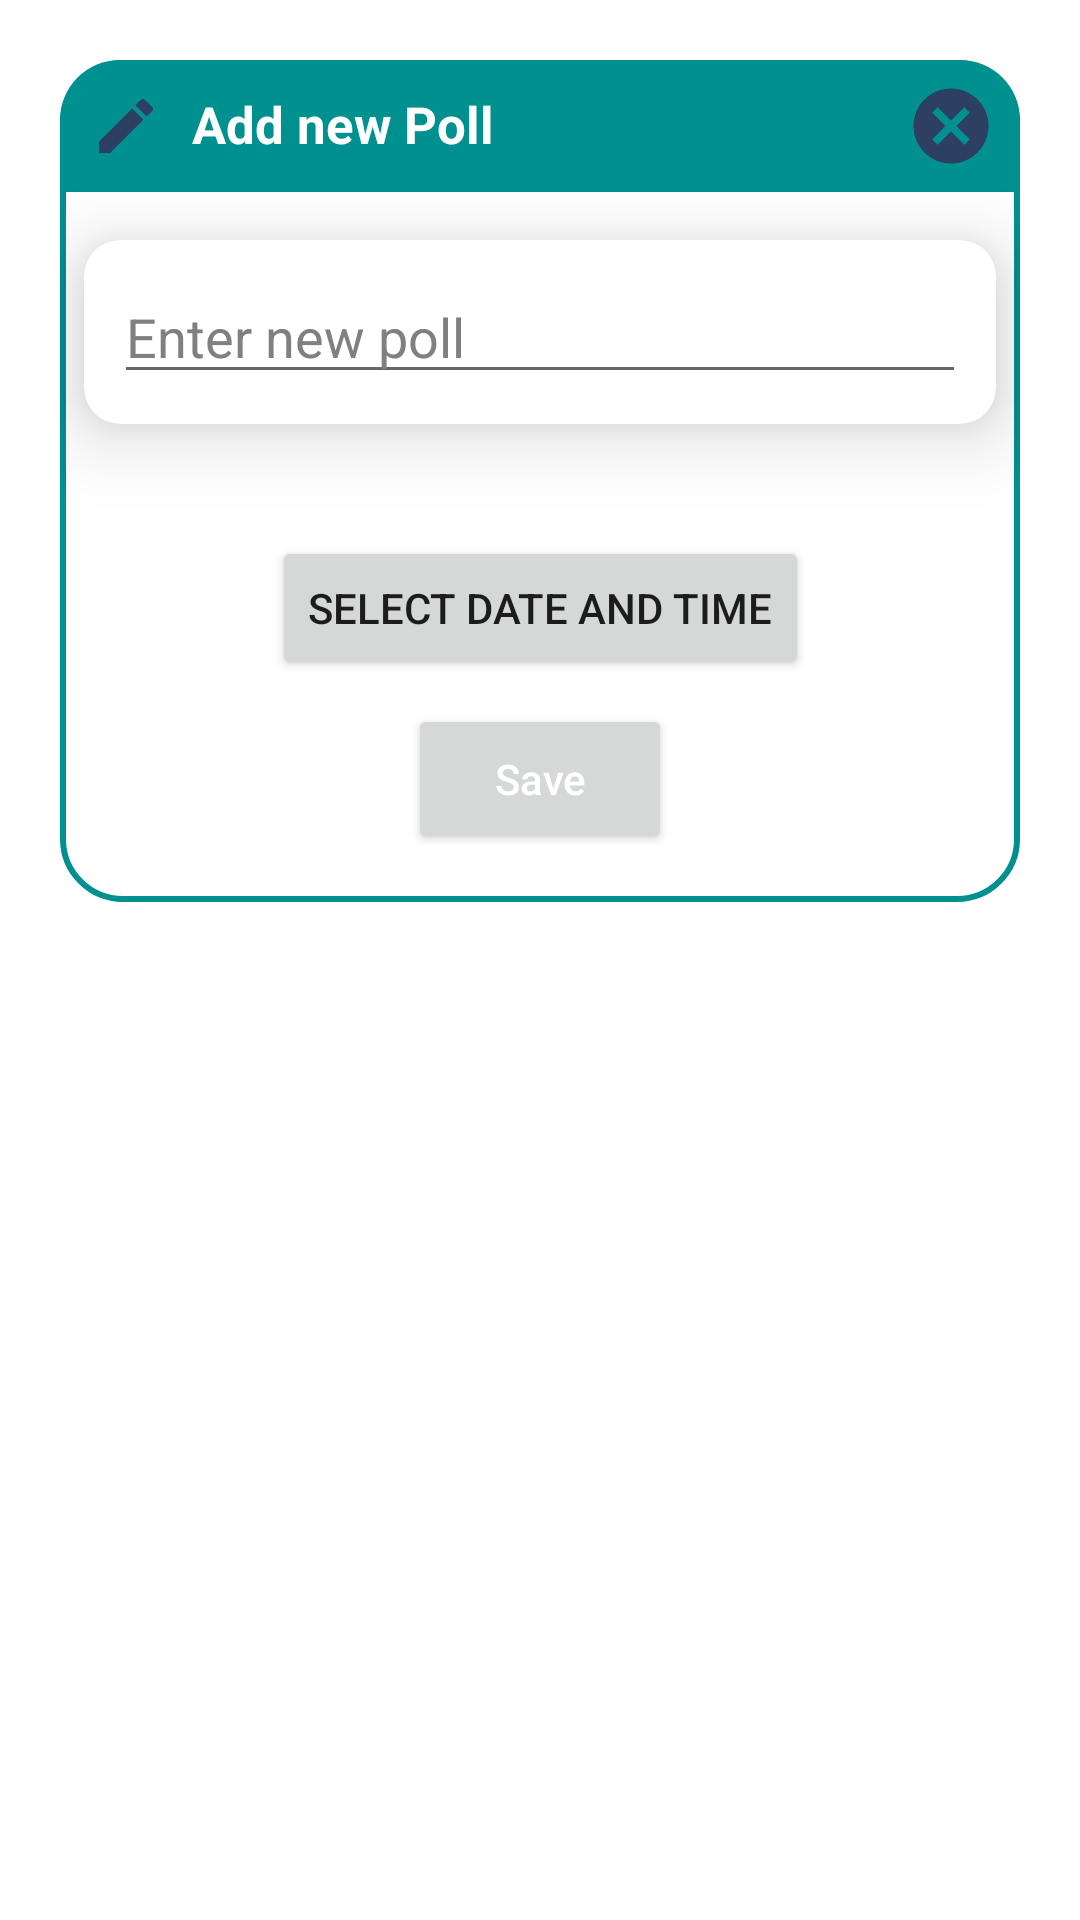

Named icons in this screenshot (1080*1920) and their bounding boxes, (x1, y1, x2, y2):
cancel: (913, 88, 989, 164)
